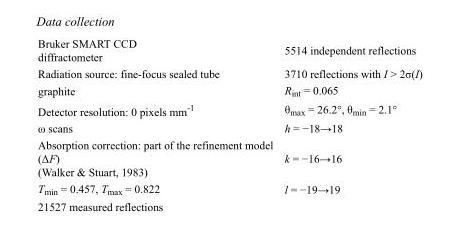table: (37, 36, 421, 212)
table column: (37, 36, 278, 212), (278, 36, 421, 212)
table row: (37, 136, 421, 179), (37, 36, 421, 64), (37, 99, 421, 119), (37, 81, 421, 99), (37, 179, 421, 197), (37, 64, 421, 81), (37, 119, 421, 136), (37, 197, 421, 212)
